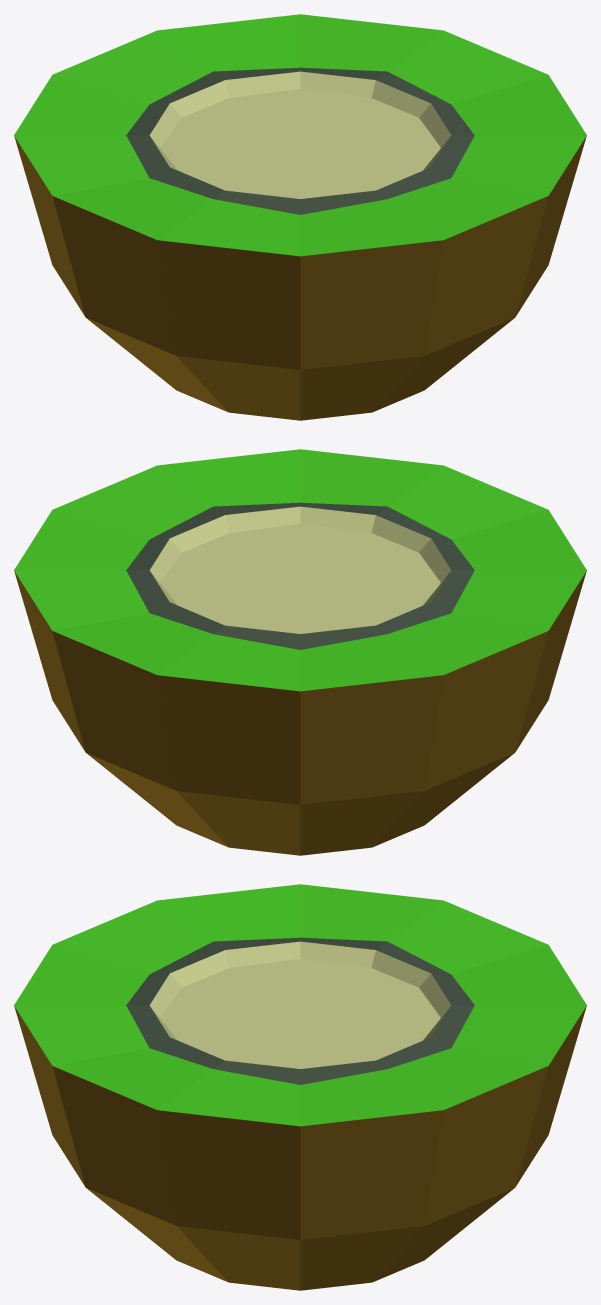
Rendered from kiwi.glb.
3 views of the same model, one above another, from view 1: azimuth 30°, elevation 25°; view 2: azimuth 150°, elevation 25°; view 3: azimuth 270°, elevation 25° (orthographic).
Parts seen in each view (by area): view 1: Sphere; view 2: Sphere; view 3: Sphere.
Boxes of the visible parts, left/top/right/bottom form: Sphere: left=14, top=14, right=586, bottom=420; Sphere: left=14, top=449, right=586, bottom=855; Sphere: left=14, top=884, right=586, bottom=1290.
Bounding box in the file's own units: 2 × 1 × 2.
